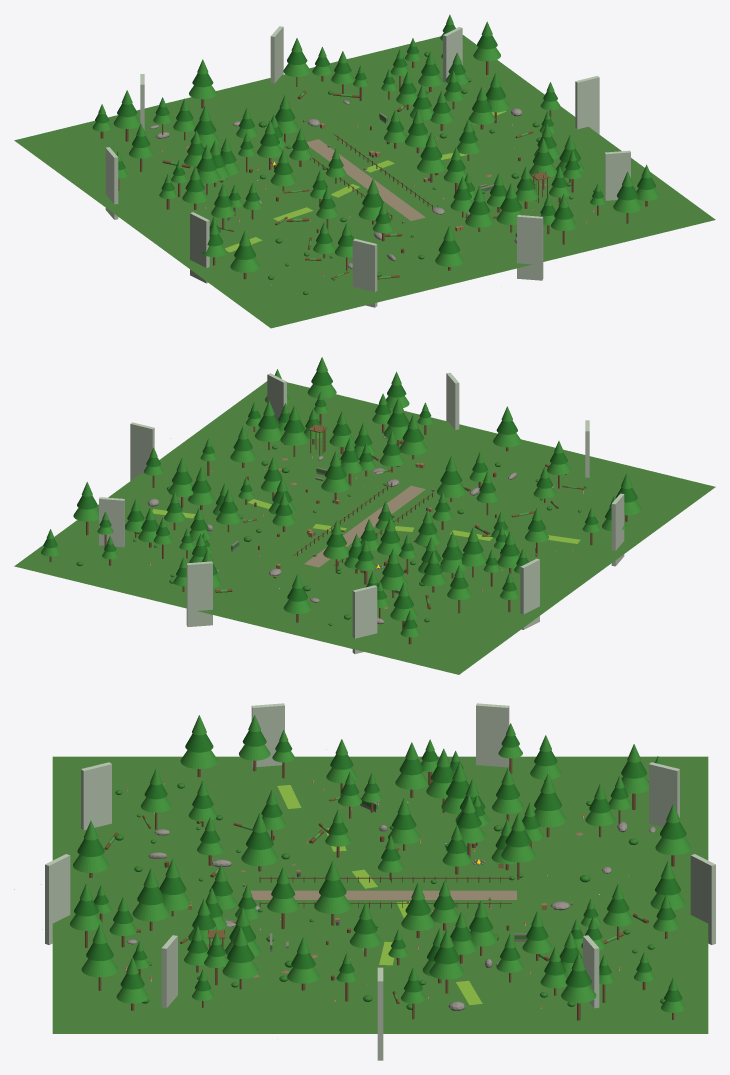
The model's file is Forest map.glb.
3 views of the same model, one above another, from view 1: azimuth 30°, elevation 25°; view 2: azimuth 150°, elevation 25°; view 3: azimuth 270°, elevation 25° (orthographic). The views are drawn at different scales.
Visible parts, largest first — view 1: Ground, Cube.108, Path, Cube.092, Cube.098, Cube.107, Cube.109, Cube.097, Cube.105, Cube.093, Cube.094; view 2: Ground, Cube.094, Path, Cube.104, Cube.096, Cube.101, Cube.103, Cube.102, Cube.095, Cube.106, Cube.100, Cube.093 (+1 smaller); view 3: Ground, Path, Cube.096, Cube.098, Cube.099, Cube.095, Cube.097, Cube.104, Cube.100, Cube.094, Cube.103, Cube.093 (+3 smaller).
Part boxes in pixels (bbox=[...]): Ground: bbox=[14, 35, 715, 328]; Cube.108: bbox=[517, 215, 542, 280]; Path: bbox=[306, 139, 425, 220]; Cube.092: bbox=[575, 76, 599, 134]; Cube.098: bbox=[352, 238, 377, 307]; Cube.107: bbox=[352, 240, 376, 307]; Cube.109: bbox=[605, 150, 630, 200]; Cube.097: bbox=[190, 212, 209, 283]; Cube.105: bbox=[105, 147, 118, 219]; Cube.093: bbox=[443, 27, 462, 82]; Cube.094: bbox=[270, 26, 283, 83]; Ground: bbox=[14, 381, 715, 674]; Cube.094: bbox=[187, 561, 212, 626]; Path: bbox=[304, 485, 425, 567]; Cube.104: bbox=[352, 585, 377, 653]; Cube.096: bbox=[520, 558, 539, 629]; Cube.101: bbox=[130, 423, 153, 480]; Cube.103: bbox=[186, 561, 212, 626]; Cube.102: bbox=[99, 497, 124, 547]; Cube.095: bbox=[352, 585, 377, 653]; Cube.106: bbox=[611, 493, 624, 566]; Cube.100: bbox=[267, 373, 286, 421]; Cube.093: bbox=[99, 497, 124, 545]; Ground: bbox=[52, 756, 708, 1033]; Path: bbox=[244, 890, 516, 899]; Cube.096: bbox=[476, 703, 509, 767]; Cube.098: bbox=[81, 762, 111, 830]; Cube.099: bbox=[45, 854, 70, 944]; Cube.095: bbox=[649, 762, 679, 826]; Cube.097: bbox=[251, 703, 284, 766]; Cube.104: bbox=[649, 762, 676, 826]; Cube.100: bbox=[161, 935, 177, 1008]; Cube.094: bbox=[690, 854, 713, 922]; Cube.103: bbox=[692, 854, 715, 944]; Cube.093: bbox=[583, 935, 599, 1008].
Bounding box in the file's own units: 126 × 17.62 × 128.
